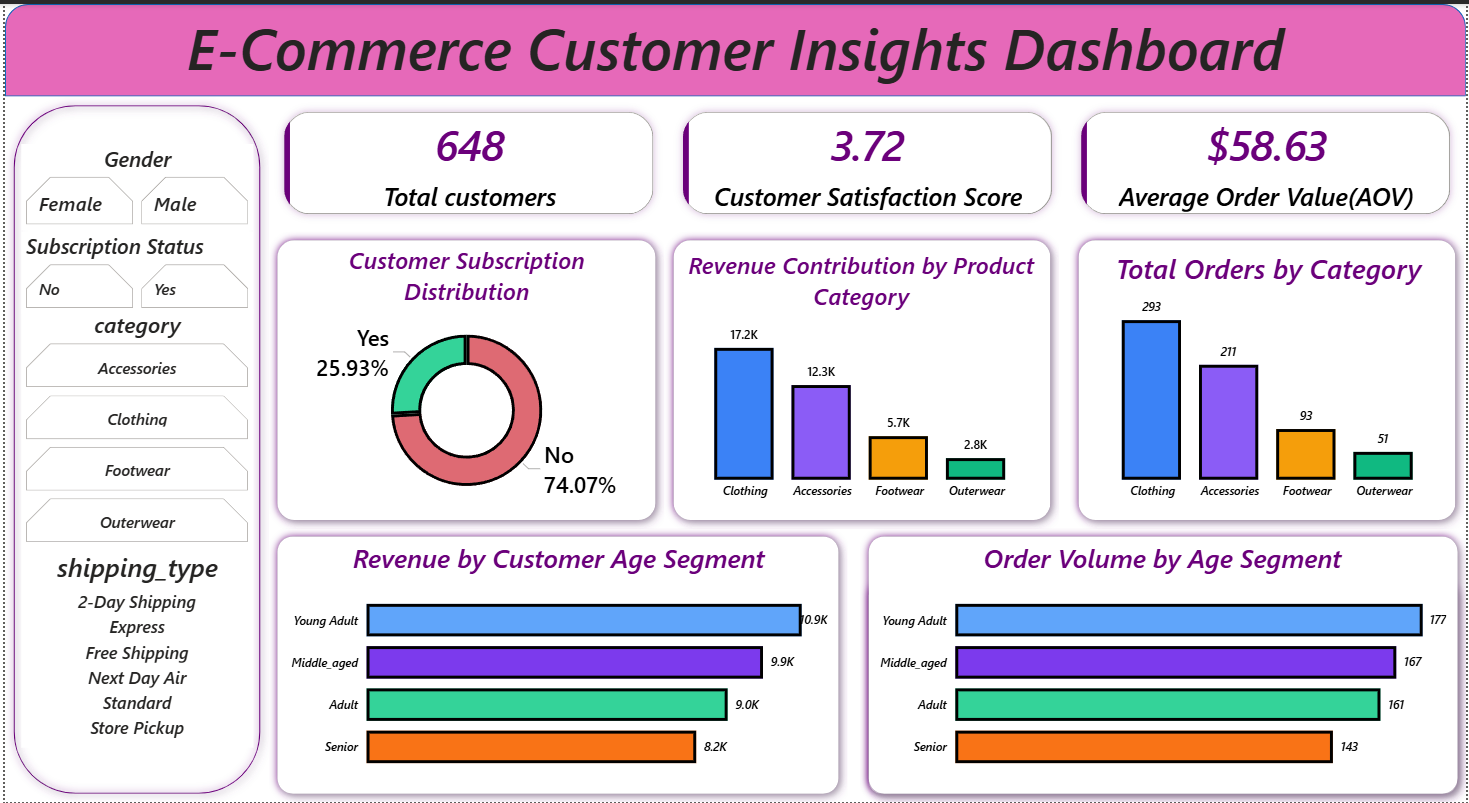

The dashboard page shown, as its layout file describes it:
{"tool":"powerbi","page":{"name":"Page 1","canvas":[1500,820],"ordinal":0},"visuals":[{"type":"cardVisual","fields":{"Data":["customer_behavior customers.Number of Customers","customer_behavior customers.Average Review Rating","customer_behavior customers.Average Purchase Amount"]},"box":[271.2,95.4,1229.1,137.6],"z":0},{"type":"shape","box":[0,0,1500.3,94.9],"z":1000},{"type":"textbox","box":[0,0,1500.3,94.9],"z":2000},{"type":"shape","box":[271.2,233,406.1,305.2],"z":3000},{"type":"donutChart","title":"Customer Subscription Distribution","fields":{"Category":["customer_behavior customers.subscription_status"],"Y":["CountNonNull(customer_behavior customers.customer_id)"]},"box":[287.5,246.6,373.4,278],"z":4000},{"type":"shape","box":[1094.2,233,404.7,305.2],"z":5000},{"type":"shape","box":[677.2,233,404.7,305.2],"z":6000},{"type":"clusteredColumnChart","title":"Revenue Contribution  by Product Category","fields":{"Y":["Sum(customer_behavior customers.purchase_amount)"],"Category":["customer_behavior customers.category"]},"box":[692.2,252.1,374.7,267.1],"z":7000},{"type":"clusteredColumnChart","title":"Total Orders by Category","fields":{"Y":["CountNonNull(customer_behavior customers.customer_id)"],"Category":["customer_behavior customers.category"]},"box":[1110.6,252.1,374.7,267.1],"z":8000},{"type":"shape","box":[0,95.4,271.2,724.9],"z":9000},{"type":"advancedSlicerVisual","title":"Subscription Status","fields":{"Values":["customer_behavior customers.subscription_status"]},"box":[16.7,233.6,238.8,84.7],"z":10000},{"type":"advancedSlicerVisual","title":"Gender","fields":{"Values":["customer_behavior customers.gender"]},"box":[16.7,143.8,238.8,88.6],"z":11000},{"type":"listSlicer","fields":{"Values":["customer_behavior customers.shipping_type"]},"box":[16.4,560,238.5,204.4],"z":12000},{"type":"advancedSlicerVisual","fields":{"Values":["customer_behavior customers.category"]},"box":[16.4,313.4,238.5,246.6],"z":13000},{"type":"shape","box":[271.2,538.2,594.1,282.1],"z":14000},{"type":"clusteredBarChart","title":"Revenue by Customer Age Segment","fields":{"Y":["Sum(customer_behavior customers.purchase_amount)"],"Category":["customer_behavior customers.age_group"]},"box":[287.5,550.7,562.2,252.9],"z":15000},{"type":"shape","box":[878,585.3,622.3,234.8],"z":16000},{"type":"shape","box":[877.5,538.2,622.7,282.1],"z":17000},{"type":"clusteredBarChart","title":"Order Volume by Age Segment","fields":{"Y":["CountNonNull(customer_behavior customers.customer_id)"],"Category":["customer_behavior customers.age_group"]},"box":[892.1,550.7,593.1,252.9],"z":18000}]}

Visuals, with their boxes in screenshot pixels (x1, y1, x2, y2), scaled from the page's 1500x820 canvas onto the 1469x803 screenshot:
cardVisual - customer_behavior customers.Number of Customers x customer_behavior customers.Average Review Rating: x1=266, y1=93, x2=1468, y2=228
shape: x1=0, y1=0, x2=1468, y2=93
textbox: x1=0, y1=0, x2=1468, y2=93
shape: x1=266, y1=228, x2=663, y2=527
"Customer Subscription Distribution" donutChart: x1=282, y1=241, x2=647, y2=514
shape: x1=1072, y1=228, x2=1468, y2=527
shape: x1=663, y1=228, x2=1060, y2=527
"Revenue Contribution  by Product Category" clusteredColumnChart: x1=678, y1=247, x2=1045, y2=508
"Total Orders by Category" clusteredColumnChart: x1=1088, y1=247, x2=1455, y2=508
shape: x1=0, y1=93, x2=266, y2=802
"Subscription Status" advancedSlicerVisual: x1=16, y1=229, x2=250, y2=312
"Gender" advancedSlicerVisual: x1=16, y1=141, x2=250, y2=228
listSlicer - customer_behavior customers.shipping_type: x1=16, y1=548, x2=250, y2=749
advancedSlicerVisual - customer_behavior customers.category: x1=16, y1=307, x2=250, y2=548
shape: x1=266, y1=527, x2=847, y2=802
"Revenue by Customer Age Segment" clusteredBarChart: x1=282, y1=539, x2=832, y2=787
shape: x1=860, y1=573, x2=1468, y2=802
shape: x1=859, y1=527, x2=1468, y2=802
"Order Volume by Age Segment" clusteredBarChart: x1=874, y1=539, x2=1455, y2=787
